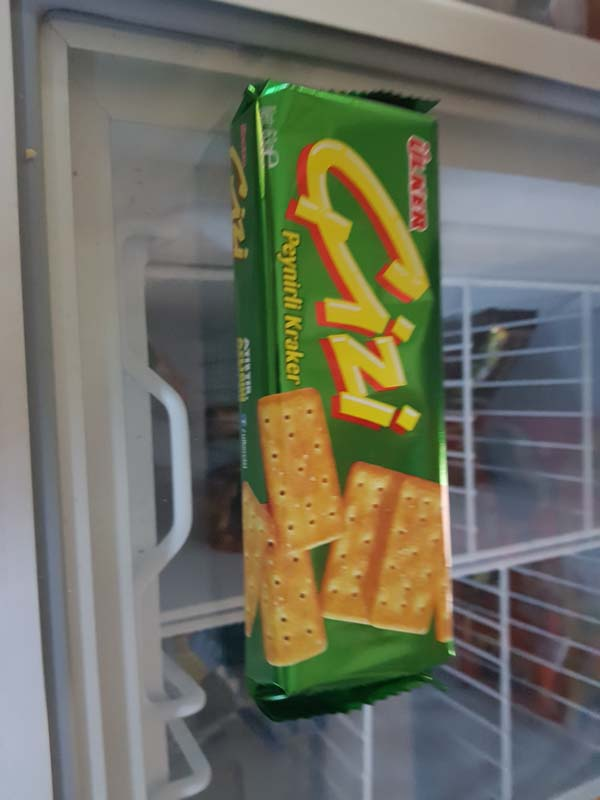cizi: (222, 68, 472, 716)
